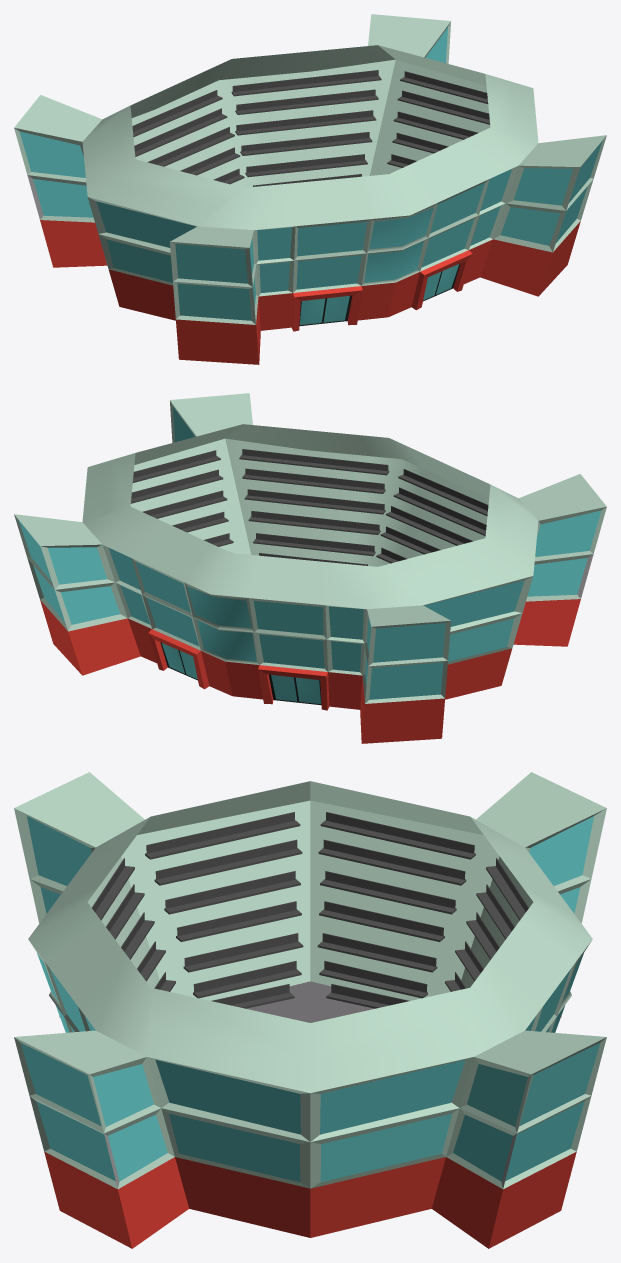
File: stadium2.fbx
3 renders of one model, top to bottom at view 1: azimuth 30°, elevation 25°; view 2: azimuth 150°, elevation 25°; view 3: azimuth 270°, elevation 25°, orthographic. The views are drawn at different scales.
Parts seen in each view (by area): view 1: polySurface17; view 2: polySurface17; view 3: polySurface17.
Part boxes in pixels (x1,y1,x2,y2): polySurface17: (14, 14, 606, 364); polySurface17: (14, 393, 606, 743); polySurface17: (14, 772, 606, 1248).
Size of the model in its own units: 590 by 189 by 479.
